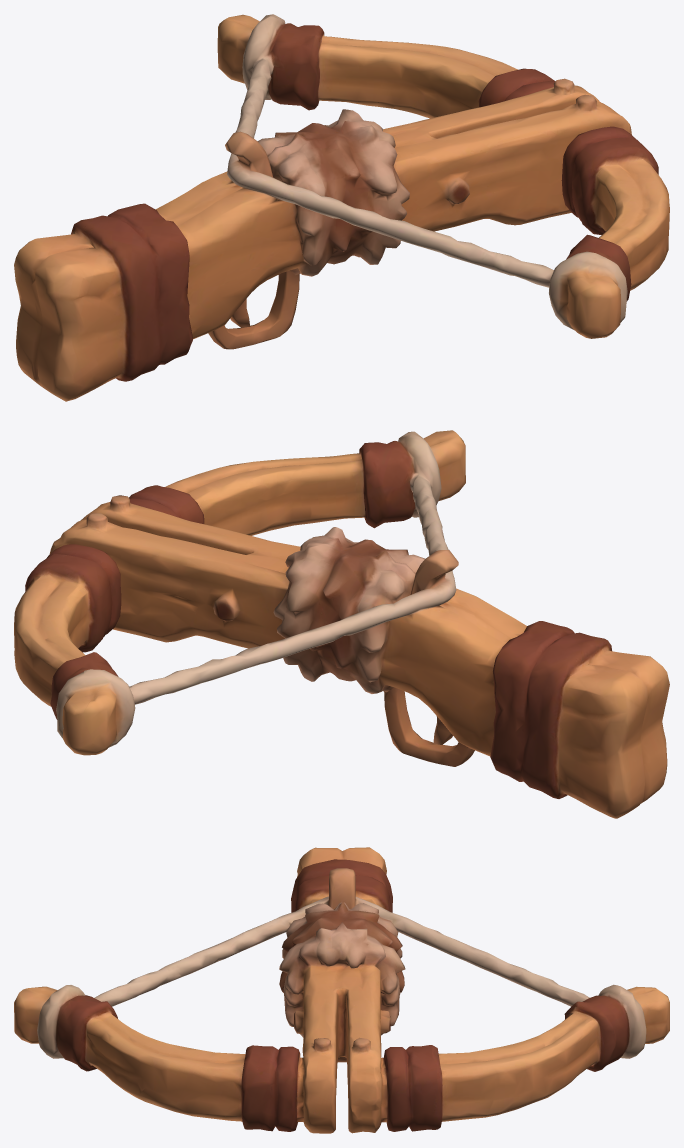
The model's file is Arm_hunter_xbow-Bzyh05u-.glb.
3 renders of one model, top to bottom at view 1: azimuth 30°, elevation 25°; view 2: azimuth 150°, elevation 25°; view 3: azimuth 270°, elevation 25°, orthographic. The views are drawn at different scales.
Visible parts, largest first — view 1: Arm_hunter_xbow; view 2: Arm_hunter_xbow; view 3: Arm_hunter_xbow.
Part boxes in pixels (box(x1,y1,x2,y2)): Arm_hunter_xbow: box(14, 14, 669, 401); Arm_hunter_xbow: box(14, 430, 669, 818); Arm_hunter_xbow: box(14, 847, 669, 1133).
Size of the model in its own units: 1.36 by 0.4675 by 1.53.
1 material, 1 textured.
